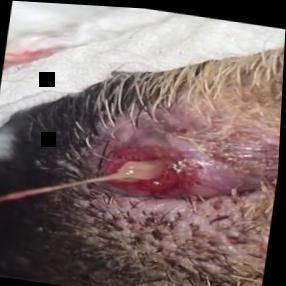skin_lesions: (98, 136, 209, 207)
